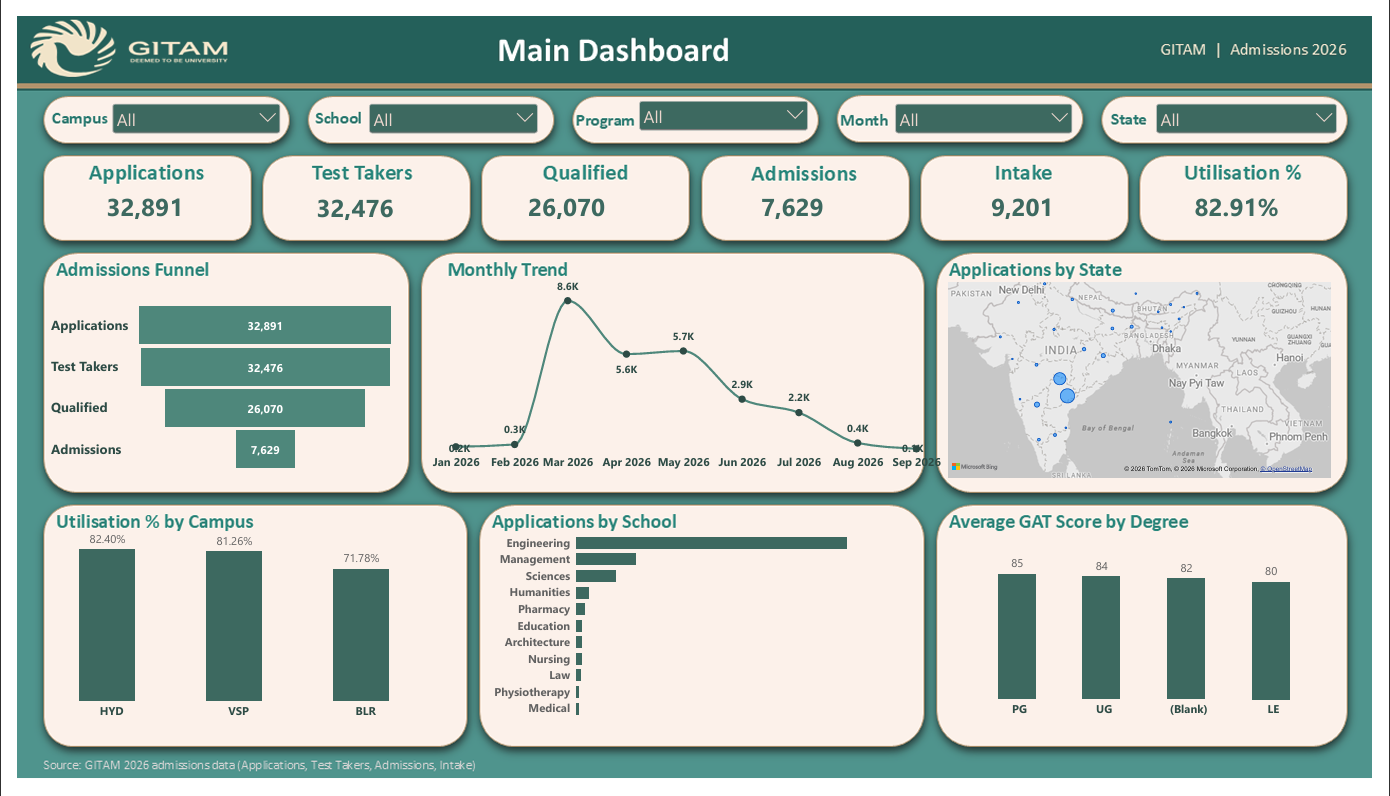

The page's visual inventory and layout, read from the dashboard file:
{"tool":"powerbi","page":{"name":"Main Dashboard","canvas":[1920,1080],"ordinal":0},"visuals":[{"type":"cardVisual","fields":{"Data":["Measure.Applications Display"]},"box":[58.9,228.2,242.9,79.1],"z":0},{"type":"cardVisual","fields":{"Data":["Measure.Admissions Display"]},"box":[977.3,228.2,242.9,79.1],"z":1000},{"type":"cardVisual","fields":{"Data":["Measure.Qualified Display"]},"box":[657.1,228.2,242.9,79.1],"z":2000},{"type":"cardVisual","fields":{"Data":["Measure.Test Takers Display"]},"box":[357.1,230.1,242.9,79.1],"z":3000},{"type":"cardVisual","fields":{"Data":["Measure.Intake Display"]},"box":[1303.1,228.2,242.9,79.1],"z":4000},{"type":"cardVisual","fields":{"Data":["Measure.Utilisation %"]},"box":[1606.8,228.2,242.9,79.1],"z":5000},{"type":"funnel","fields":{"Category":["Funnel Stages.Stage"],"Y":["Measure.Funnel Value"]},"box":[31.3,381,519,289],"z":6000},{"type":"lineChart","fields":{"Category":["Test_Takers.Month Start.Variation.Date Hierarchy.Year","Test_Takers.Month Start.Variation.Date Hierarchy.Quarter","Test_Takers.Month Start.Variation.Date Hierarchy.Month","Test_Takers.Month Start.Variation.Date Hierarchy.Day"],"Y":["Measure.Test Takers"]},"box":[570.6,346,754.6,318.4],"z":7000},{"type":"map","fields":{"Category":["Applications.State"],"Size":["Measure.Total Applications"]},"box":[1304,362,574,344],"z":8000},{"type":"clusteredColumnChart","fields":{"Category":["Intake.Campus"],"Y":["Measure.Utilisation %"]},"box":[0,686,626,330],"z":9000},{"type":"clusteredBarChart","fields":{"Category":["Intake.School"],"Y":["Measure.Total Applications"]},"box":[658,706,614,308],"z":10000},{"type":"clusteredColumnChart","fields":{"Category":["Intake.Degree"],"Y":["Measure.Avg GAT"]},"box":[1326,736,548,278],"z":11000},{"type":"slicer","fields":{"Values":["Test_Takers.Month Start.Variation.Date Hierarchy.Month"]},"box":[1238.7,117.8,261.4,81],"z":12000},{"type":"slicer","fields":{"Values":["Intake.Campus"]},"box":[128.8,117.8,248.5,57.1],"z":13000},{"type":"slicer","fields":{"Values":["Intake.Program"]},"box":[876.1,114.1,248.5,60.7],"z":14000},{"type":"slicer","fields":{"Values":["Intake.School"]},"box":[493.3,117.8,248.5,64.4],"z":15000},{"type":"slicer","fields":{"Values":["Applications.State"]},"box":[1608.6,117.8,266.9,64.4],"z":16000}]}

Visuals, with their boxes in screenshot pixels (x1, y1, x2, y2), scaled from the page's 1920x1080 canvas onto the 1390x796 screenshot:
cardVisual - Measure.Applications Display: {"left": 43, "top": 168, "right": 218, "bottom": 226}
cardVisual - Measure.Admissions Display: {"left": 708, "top": 168, "right": 883, "bottom": 226}
cardVisual - Measure.Qualified Display: {"left": 476, "top": 168, "right": 652, "bottom": 226}
cardVisual - Measure.Test Takers Display: {"left": 259, "top": 170, "right": 434, "bottom": 228}
cardVisual - Measure.Intake Display: {"left": 943, "top": 168, "right": 1119, "bottom": 226}
cardVisual - Measure.Utilisation %: {"left": 1163, "top": 168, "right": 1339, "bottom": 226}
funnel - Funnel Stages.Stage x Measure.Funnel Value: {"left": 23, "top": 281, "right": 398, "bottom": 494}
lineChart - Test_Takers.Month Start.Variation.Date Hierarchy.Year x Test_Takers.Month Start.Variation.Date Hierarchy.Quarter: {"left": 413, "top": 255, "right": 959, "bottom": 490}
map - Applications.State x Measure.Total Applications: {"left": 944, "top": 267, "right": 1360, "bottom": 520}
clusteredColumnChart - Intake.Campus x Measure.Utilisation %: {"left": 0, "top": 506, "right": 453, "bottom": 749}
clusteredBarChart - Intake.School x Measure.Total Applications: {"left": 476, "top": 520, "right": 921, "bottom": 747}
clusteredColumnChart - Intake.Degree x Measure.Avg GAT: {"left": 960, "top": 542, "right": 1357, "bottom": 747}
slicer - Test_Takers.Month Start.Variation.Date Hierarchy.Month: {"left": 897, "top": 87, "right": 1086, "bottom": 147}
slicer - Intake.Campus: {"left": 93, "top": 87, "right": 273, "bottom": 129}
slicer - Intake.Program: {"left": 634, "top": 84, "right": 814, "bottom": 129}
slicer - Intake.School: {"left": 357, "top": 87, "right": 537, "bottom": 134}
slicer - Applications.State: {"left": 1165, "top": 87, "right": 1358, "bottom": 134}
